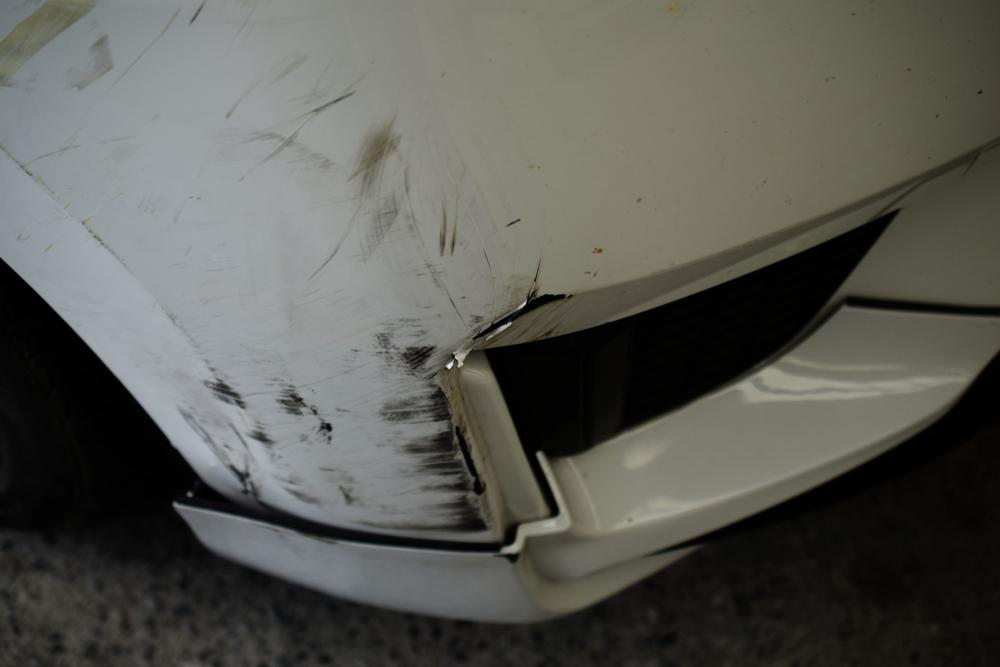crack: (461, 291, 571, 345)
scratch: (0, 0, 575, 539)
